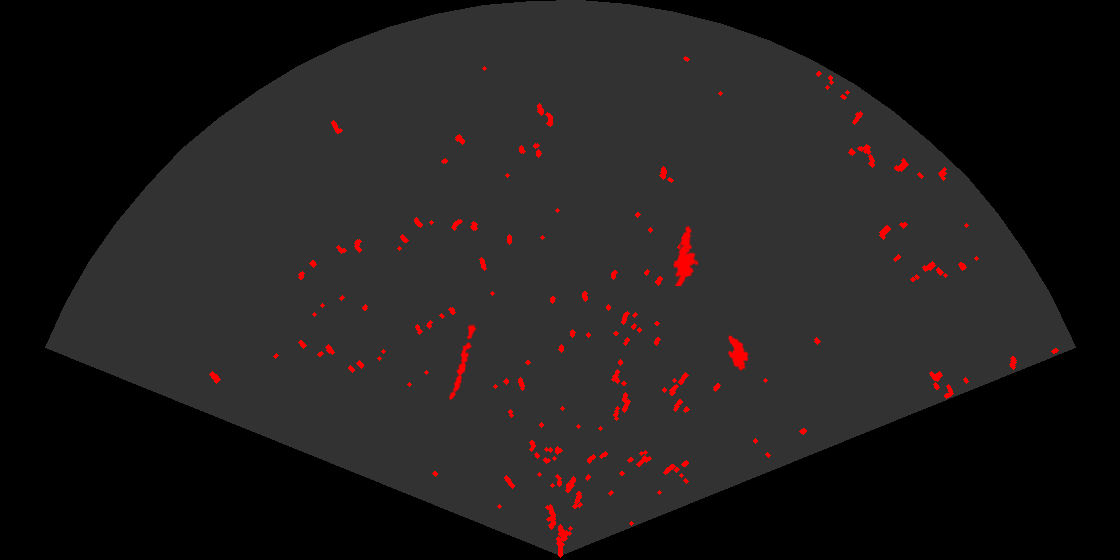AUV: (726, 333, 750, 372)
chain: (447, 321, 478, 402)
frogman: (671, 224, 700, 286)
